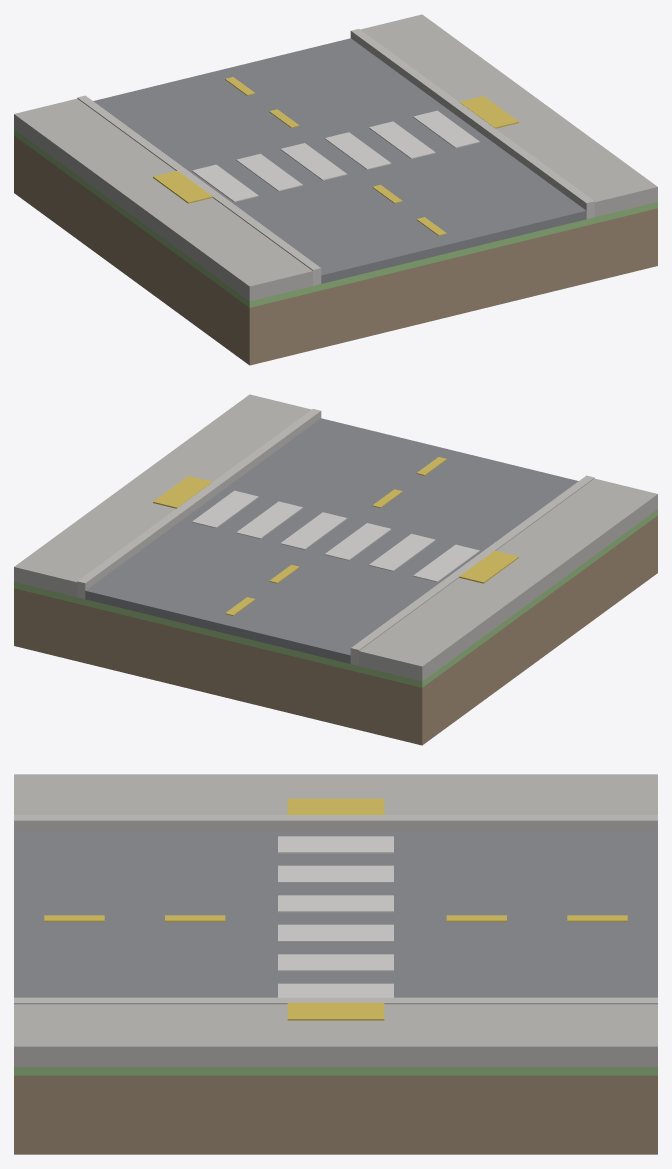
Rendered from ruas__asfalto_faixa_pedestre.glb.
3 renders of one model, top to bottom at view 1: azimuth 30°, elevation 25°; view 2: azimuth 150°, elevation 25°; view 3: azimuth 270°, elevation 25°, orthographic. The views are drawn at different scales.
Parts seen in each view (by area): view 1: ruas__asfalto_faixa_pedestre; view 2: ruas__asfalto_faixa_pedestre; view 3: ruas__asfalto_faixa_pedestre.
Boxes of the visible parts, x1,y1,x2,y2 form: ruas__asfalto_faixa_pedestre: [14, 14, 657, 365]; ruas__asfalto_faixa_pedestre: [14, 394, 657, 745]; ruas__asfalto_faixa_pedestre: [14, 774, 657, 1154].
Bounding box in the file's own units: 2 × 0.376 × 2.
